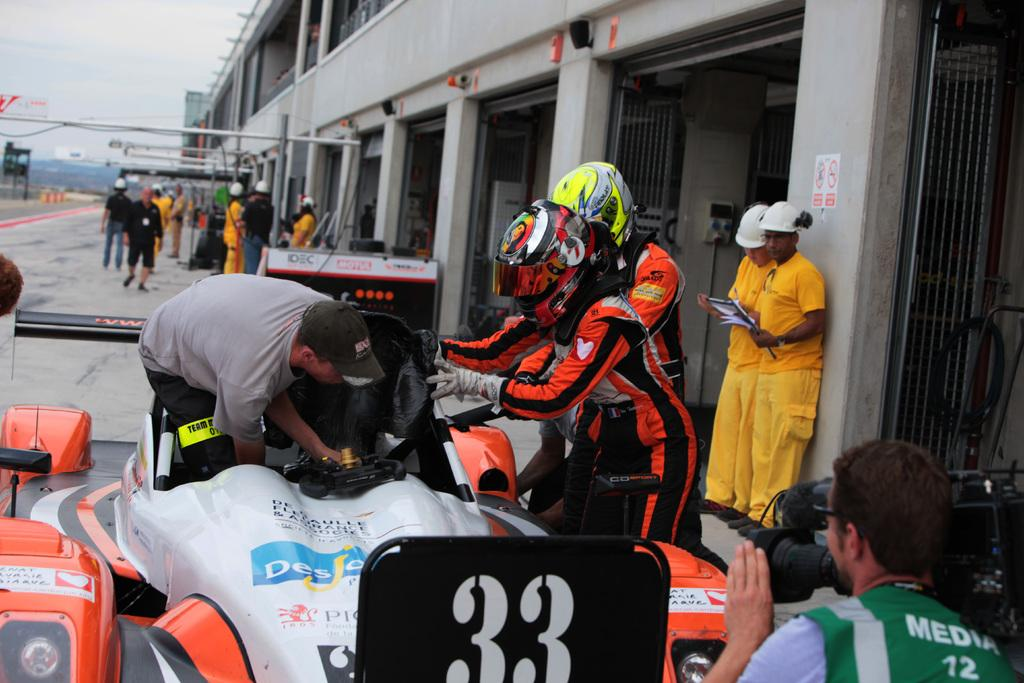helmet: (492, 199, 596, 327), (542, 161, 636, 274), (735, 204, 781, 265), (757, 201, 802, 259), (298, 196, 316, 215), (254, 180, 270, 199), (229, 182, 244, 201), (113, 177, 127, 195)
nohelmet: (822, 437, 958, 599), (288, 298, 388, 391)
